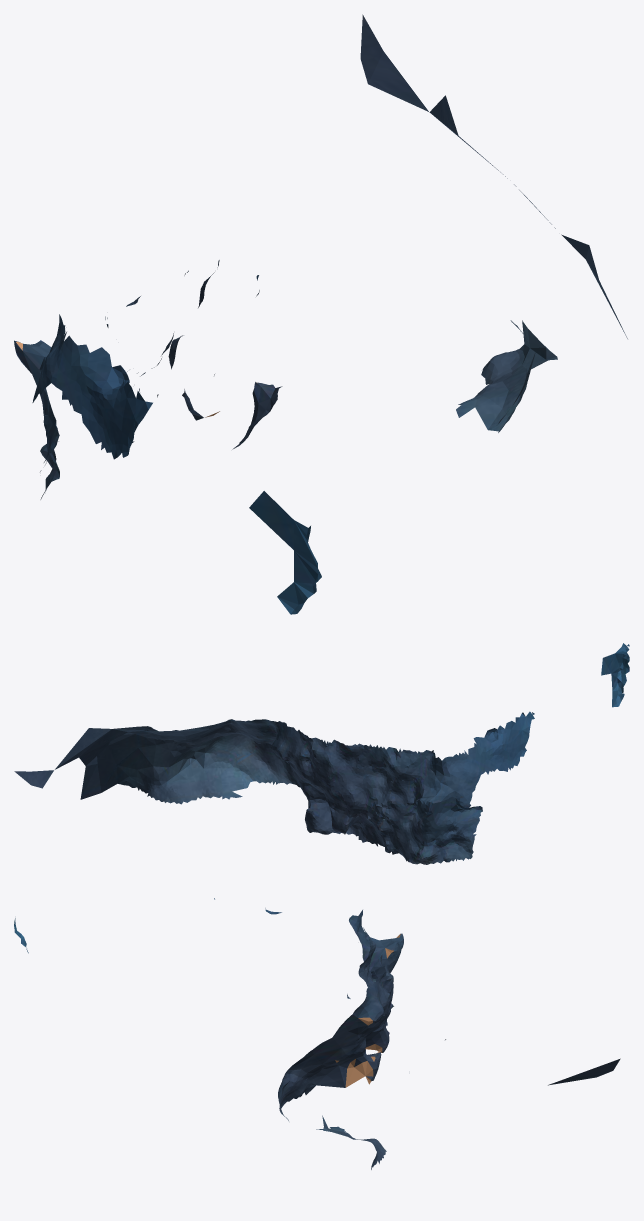
File: tile_0743.gltf
3 views of the same model, one above another, from view 1: azimuth 30°, elevation 25°; view 2: azimuth 150°, elevation 25°; view 3: azimuth 270°, elevation 25° (orthographic). The views are drawn at different scales.
Visible parts, largest first — view 1: defaultobject; view 2: defaultobject; view 3: defaultobject.
Boxes of the visible parts, box(x1,y1,x2,y2) form: defaultobject: box(14, 14, 627, 614); defaultobject: box(14, 643, 629, 864); defaultobject: box(14, 898, 620, 1169).
Bounding box in the file's own units: 0.8519 × 0.2679 × 1.16.
Materials: 2 (2 with a texture image).
